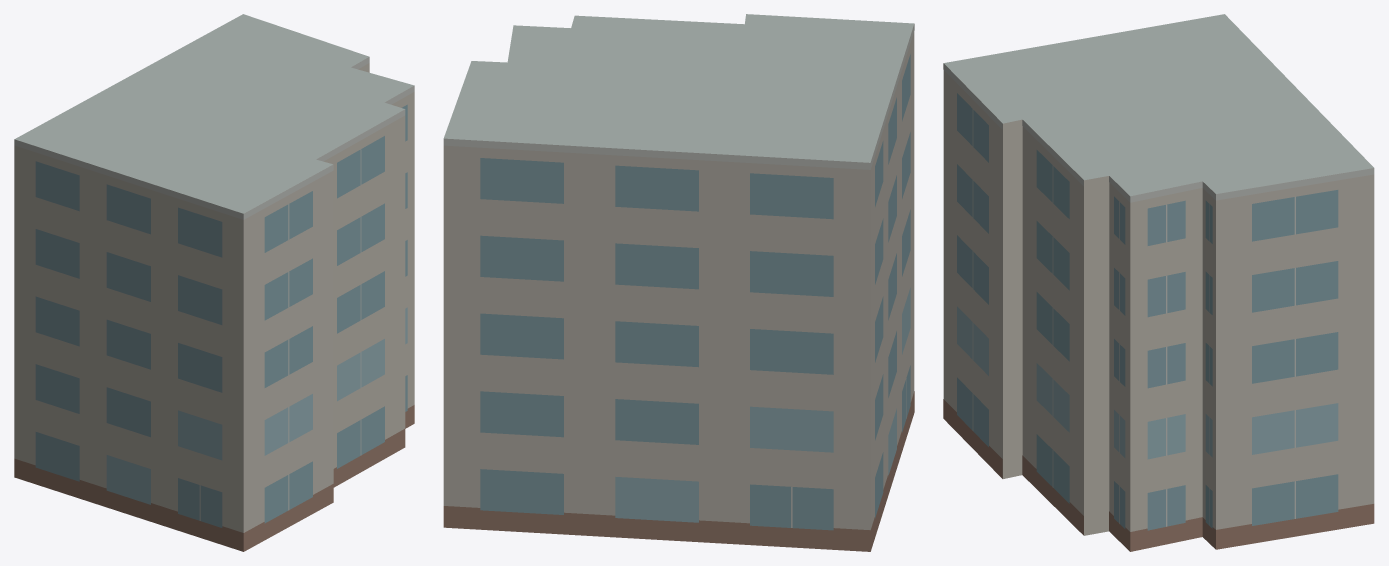
File: survey-upis-32850720.glb
The picture shows the model from 3 angles, left to right: view 1: azimuth 30°, elevation 25°; view 2: azimuth 150°, elevation 25°; view 3: azimuth 270°, elevation 25°; orthographic projection. The views are drawn at different scales.
Visible parts, largest first — view 1: survey-upis-32850720.tmp; view 2: survey-upis-32850720.tmp; view 3: survey-upis-32850720.tmp.
Boxes of the visible parts, <box> form: survey-upis-32850720.tmp: <box>14,14,414,551</box>; survey-upis-32850720.tmp: <box>443,14,914,551</box>; survey-upis-32850720.tmp: <box>943,14,1374,551</box>.
Size of the model in its own units: 14.8 by 13.45 by 14.78.
